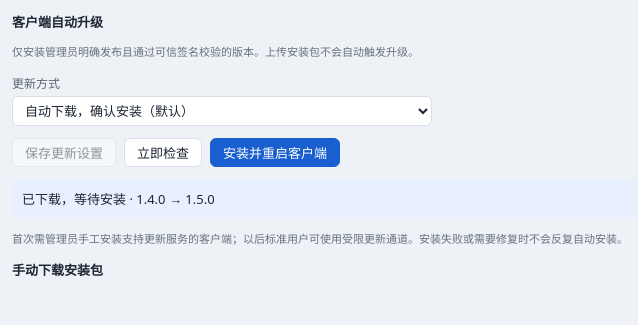
客户端自动升级体验 › 默认自动下载且安装失败保留页面与明确原因
The image size is (638, 325).
Expected: the dropdown shows "自动下载，确认安装（默认）", [12, 96, 432, 126]
Click the button "安装并重启客户端": [275, 152] box [210, 138, 340, 167]
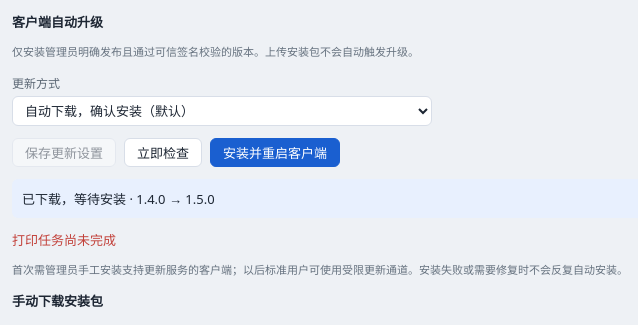
Expected: the message "打印任务尚未完成" is shown, [12, 231, 116, 249]
